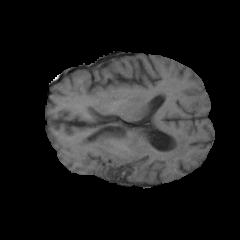glioma: (75, 132, 189, 178)
